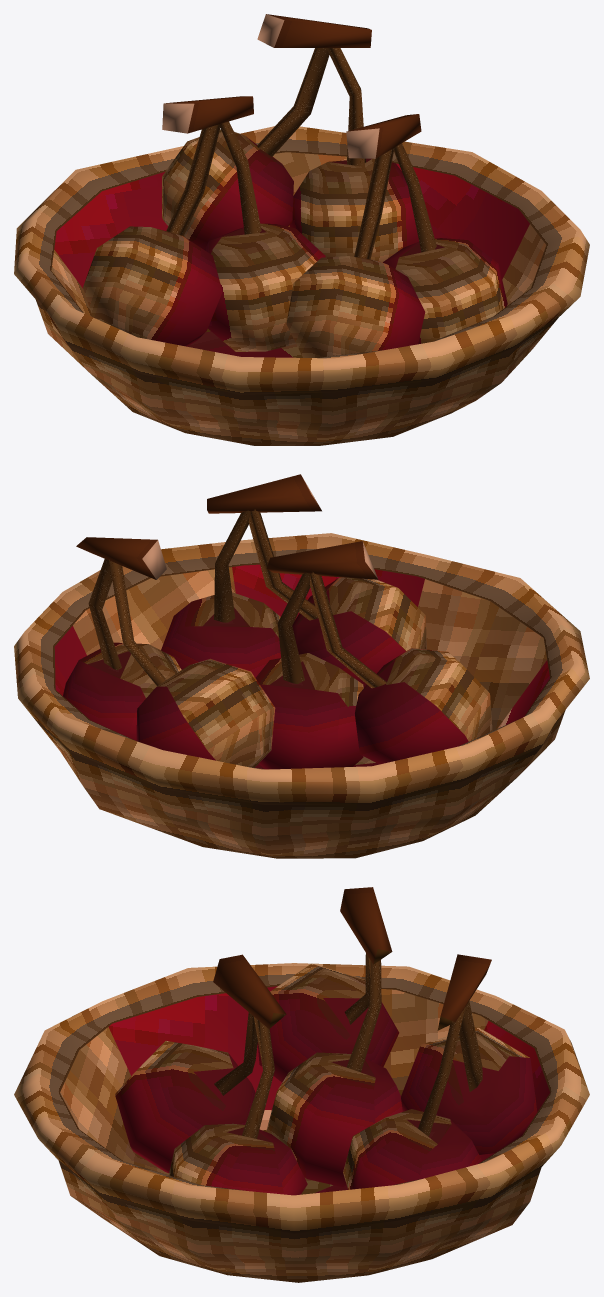
File: int_fru_cherry.dae
3 renders of one model, top to bottom at view 1: azimuth 30°, elevation 25°; view 2: azimuth 150°, elevation 25°; view 3: azimuth 270°, elevation 25°, orthographic.
Parts seen in each view (by area): view 1: int_fru_cherry; view 2: int_fru_cherry; view 3: int_fru_cherry.
Part boxes in pixels (left/top/right/bottom): int_fru_cherry: left=14, top=14, right=589, bottom=445; int_fru_cherry: left=14, top=474, right=589, bottom=858; int_fru_cherry: left=14, top=887, right=589, bottom=1282.
Bounding box in the file's own units: 28.3 × 15.01 × 28.27.
Materials: 1 (1 with a texture image).
